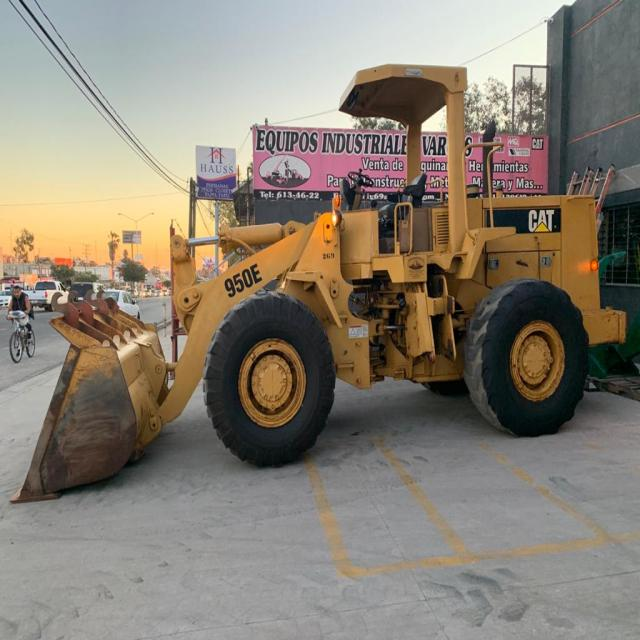buldozerpayloadergrader: (27, 53, 626, 497)
